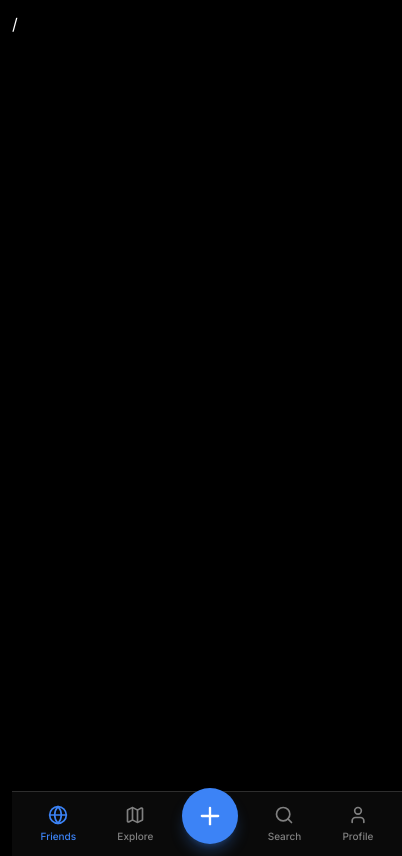
Test: per-tab history › each tab keeps its own screens
This screenshot has width=402, height=856.
Click the button "Explore" at {"x": 135, "y": 824}, box x1=105 y1=796 x2=165 y2=852
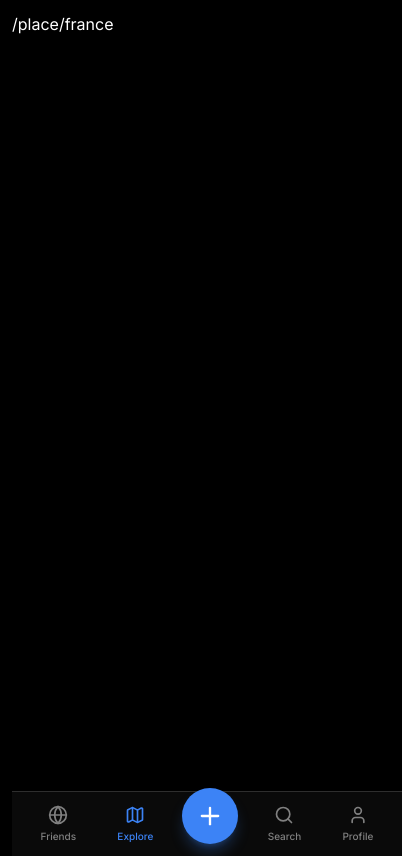
Click the button "Profile" at {"x": 358, "y": 824}, box x1=330 y1=796 x2=385 y2=852
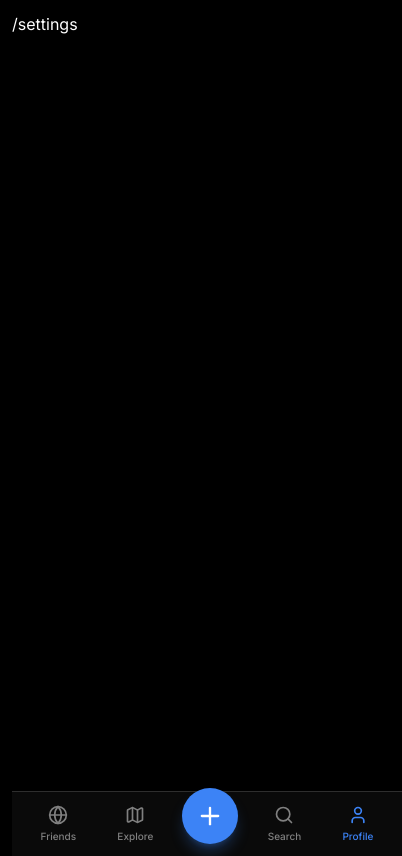
Click the button "Explore" at {"x": 135, "y": 824}, box x1=105 y1=796 x2=165 y2=852
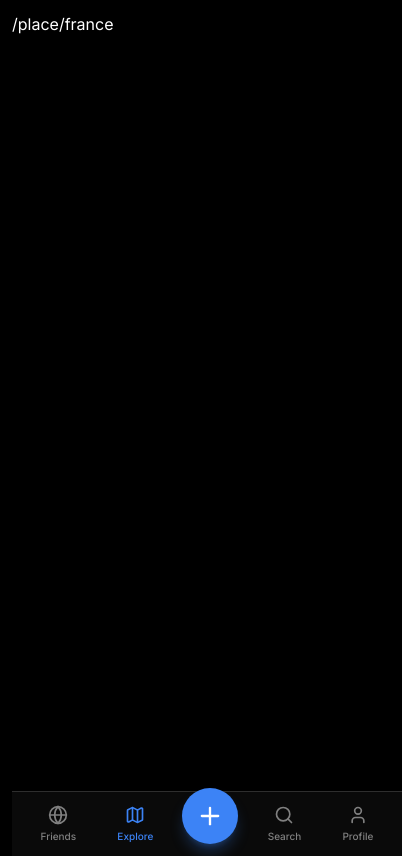
expect the text with test id "screen" reads "/place/france": met, box x1=12 y1=14 x2=114 y2=34
Click the button "Profile" at {"x": 358, "y": 824}, box x1=330 y1=796 x2=385 y2=852
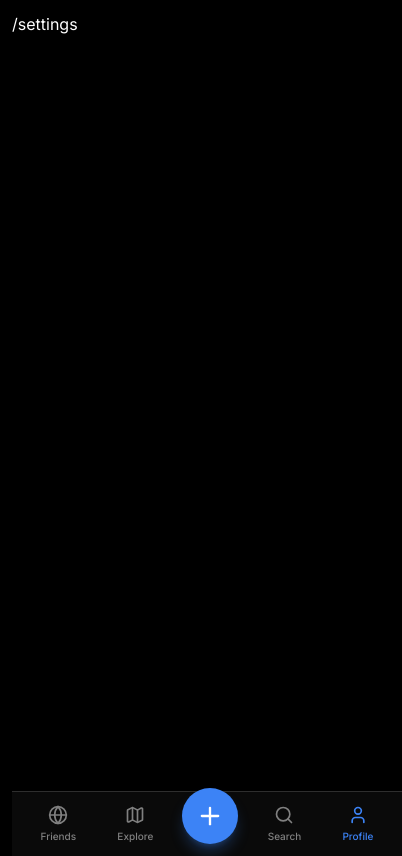
expect the text with test id "screen" reads "/settings": met, box x1=12 y1=14 x2=78 y2=34
